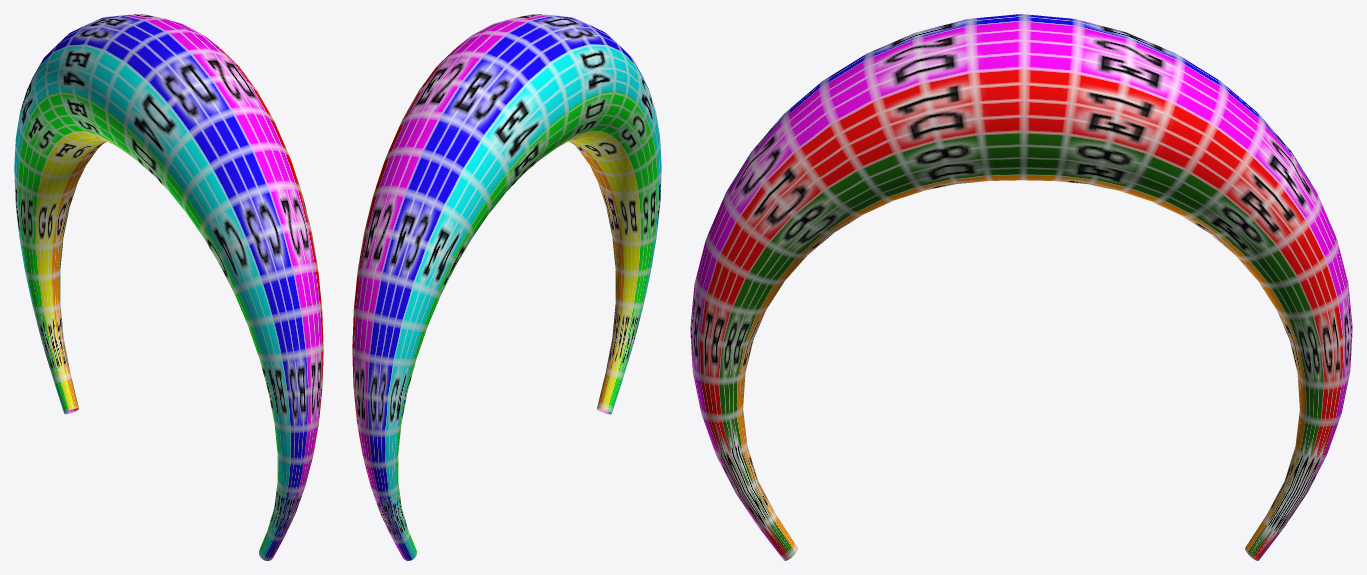
Rendered from Protuberanec.FBX.
The picture shows the model from 3 angles, left to right: view 1: azimuth 30°, elevation 25°; view 2: azimuth 150°, elevation 25°; view 3: azimuth 270°, elevation 25°; orthographic projection. The views are drawn at different scales.
Parts seen in each view (by area): view 1: Cylinder001; view 2: Cylinder001; view 3: Cylinder001.
Boxes of the visible parts, bbox=[...] form: Cylinder001: bbox=[14, 14, 323, 560]; Cylinder001: bbox=[352, 14, 661, 560]; Cylinder001: bbox=[690, 14, 1352, 560].
Bounding box in the file's own units: 37.22 × 131 × 146.
Materials: 1 (1 with a texture image).
